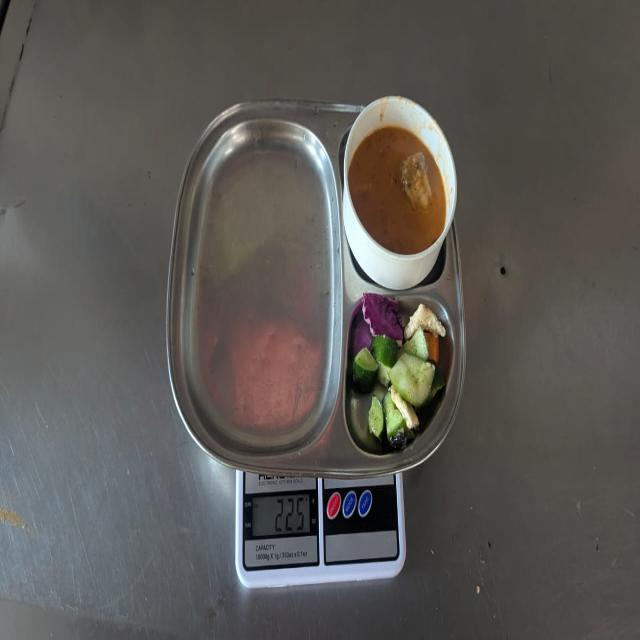Chicken Curry: (347, 122, 448, 256)
Salad: (347, 288, 450, 451)
